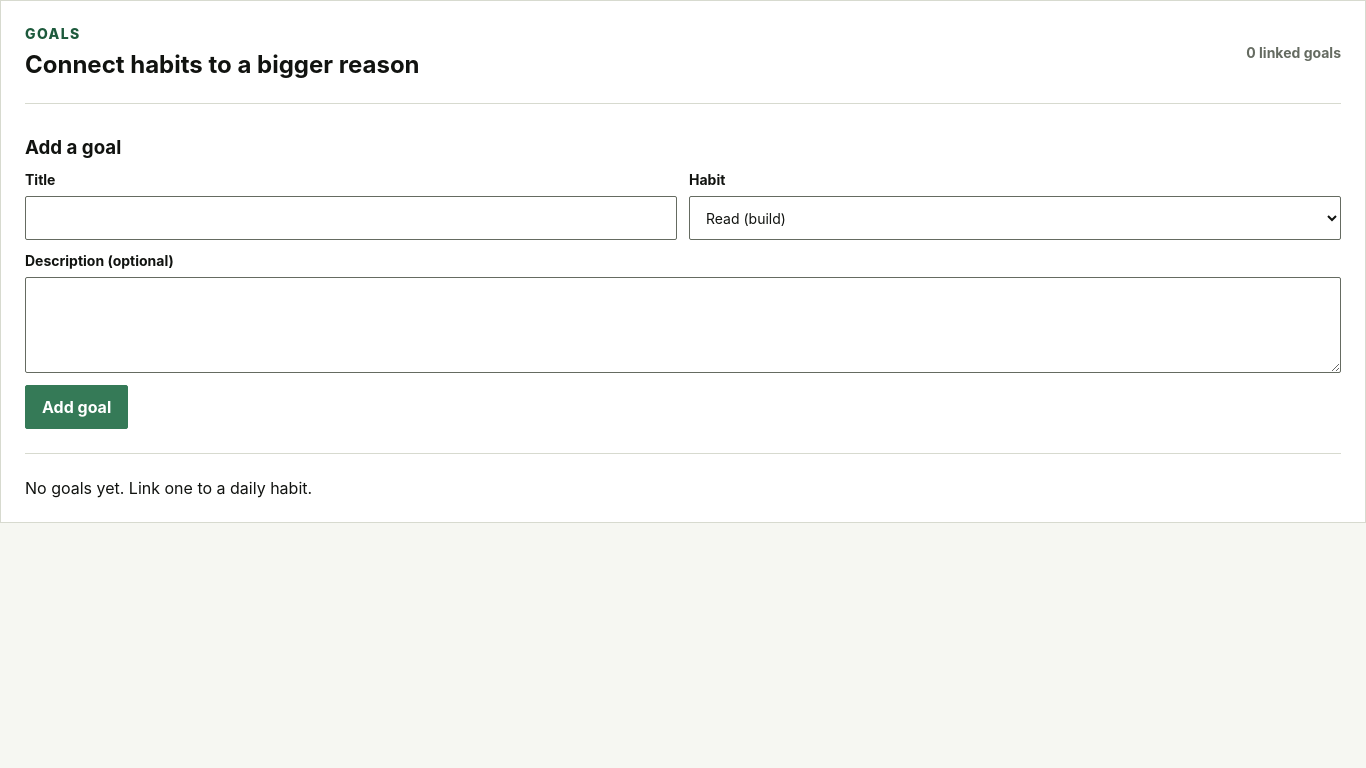
GoalManager › shows validation and does not submit an empty title
The image size is (1366, 768).
expect the text "No goals yet. Link one to a daily habit." is shown: met, box [25,478,312,498]
Click the button "Add goal": click(77, 407) [25,385,128,429]
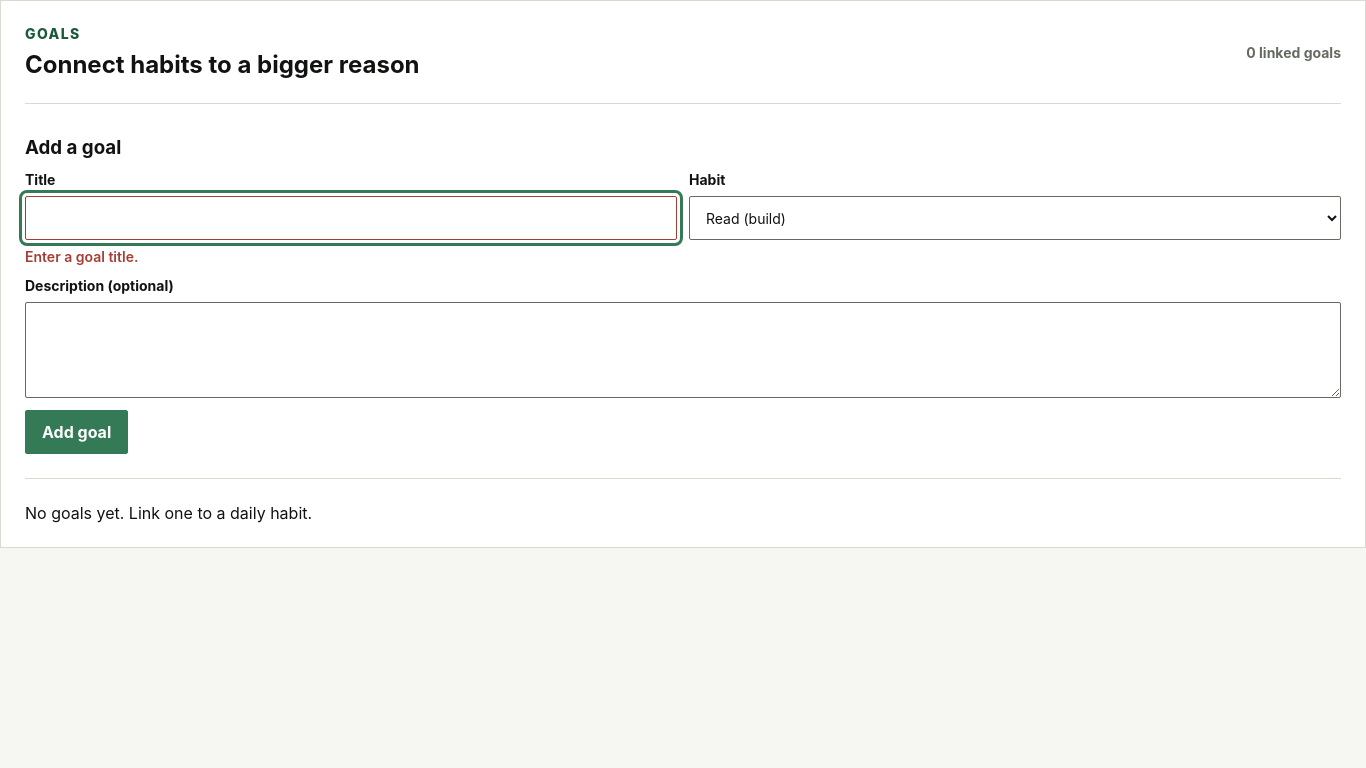
expect the text "Enter a goal title." is shown: met, box [25,248,138,265]
